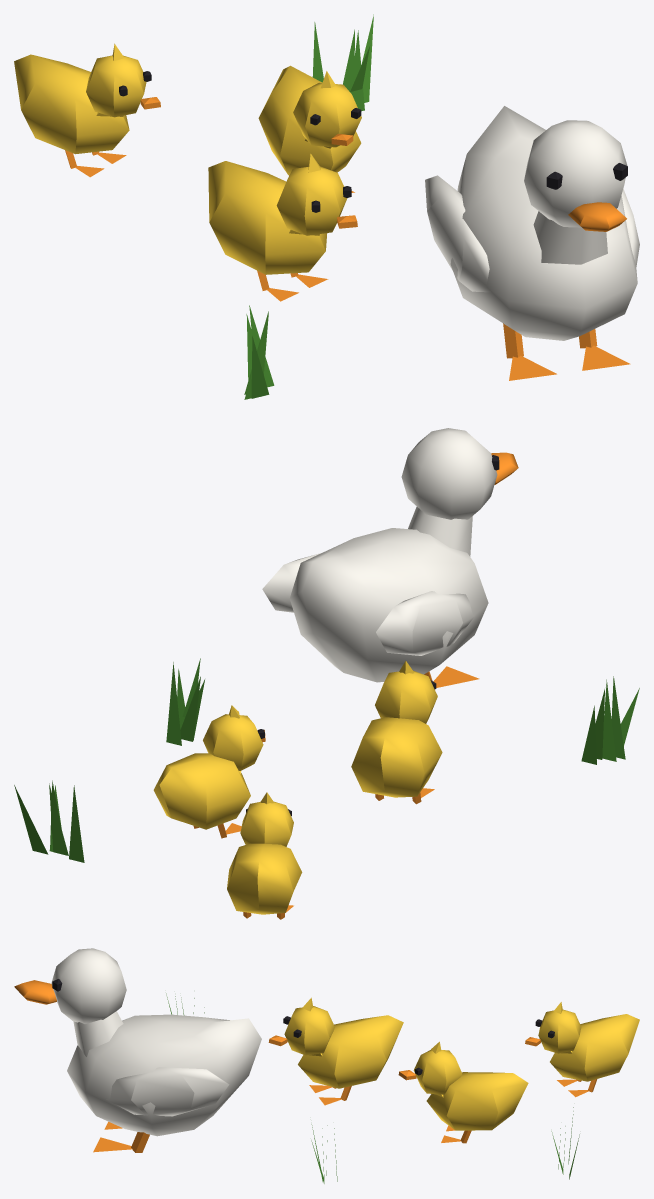
Rendered from duck_family.glb.
The picture shows the model from 3 angles, top to bottom: view 1: azimuth 30°, elevation 25°; view 2: azimuth 150°, elevation 25°; view 3: azimuth 270°, elevation 25°; orthographic projection. The views are drawn at different scales.
Visible parts, largest first — view 1: duck_family; view 2: duck_family; view 3: duck_family.
Boxes of the visible parts, bbox=[...] form: duck_family: bbox=[14, 14, 639, 399]; duck_family: bbox=[14, 428, 639, 919]; duck_family: bbox=[14, 948, 639, 1183].
Bounding box in the file's own units: 0.7572 × 0.4499 × 1.38.
